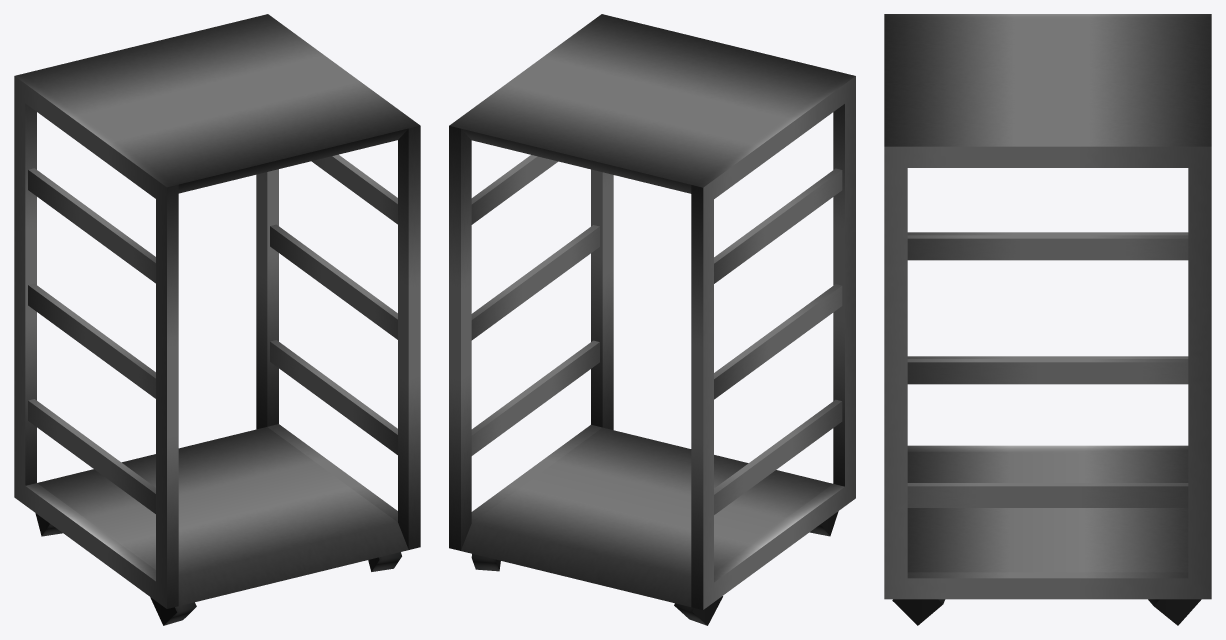
The model's file is Bread_Rack.FBX.
3 renders of one model, left to right at view 1: azimuth 30°, elevation 25°; view 2: azimuth 150°, elevation 25°; view 3: azimuth 270°, elevation 25°, orthographic. The views are drawn at different scales.
Parts seen in each view (by area): view 1: Bread Rack; view 2: Bread Rack; view 3: Bread Rack.
Boxes of the visible parts, x1,y1,x2,y2 form: Bread Rack: (14, 14, 420, 625); Bread Rack: (449, 14, 855, 625); Bread Rack: (884, 14, 1211, 625).
Bounding box in the file's own units: 183 × 311 × 190.
